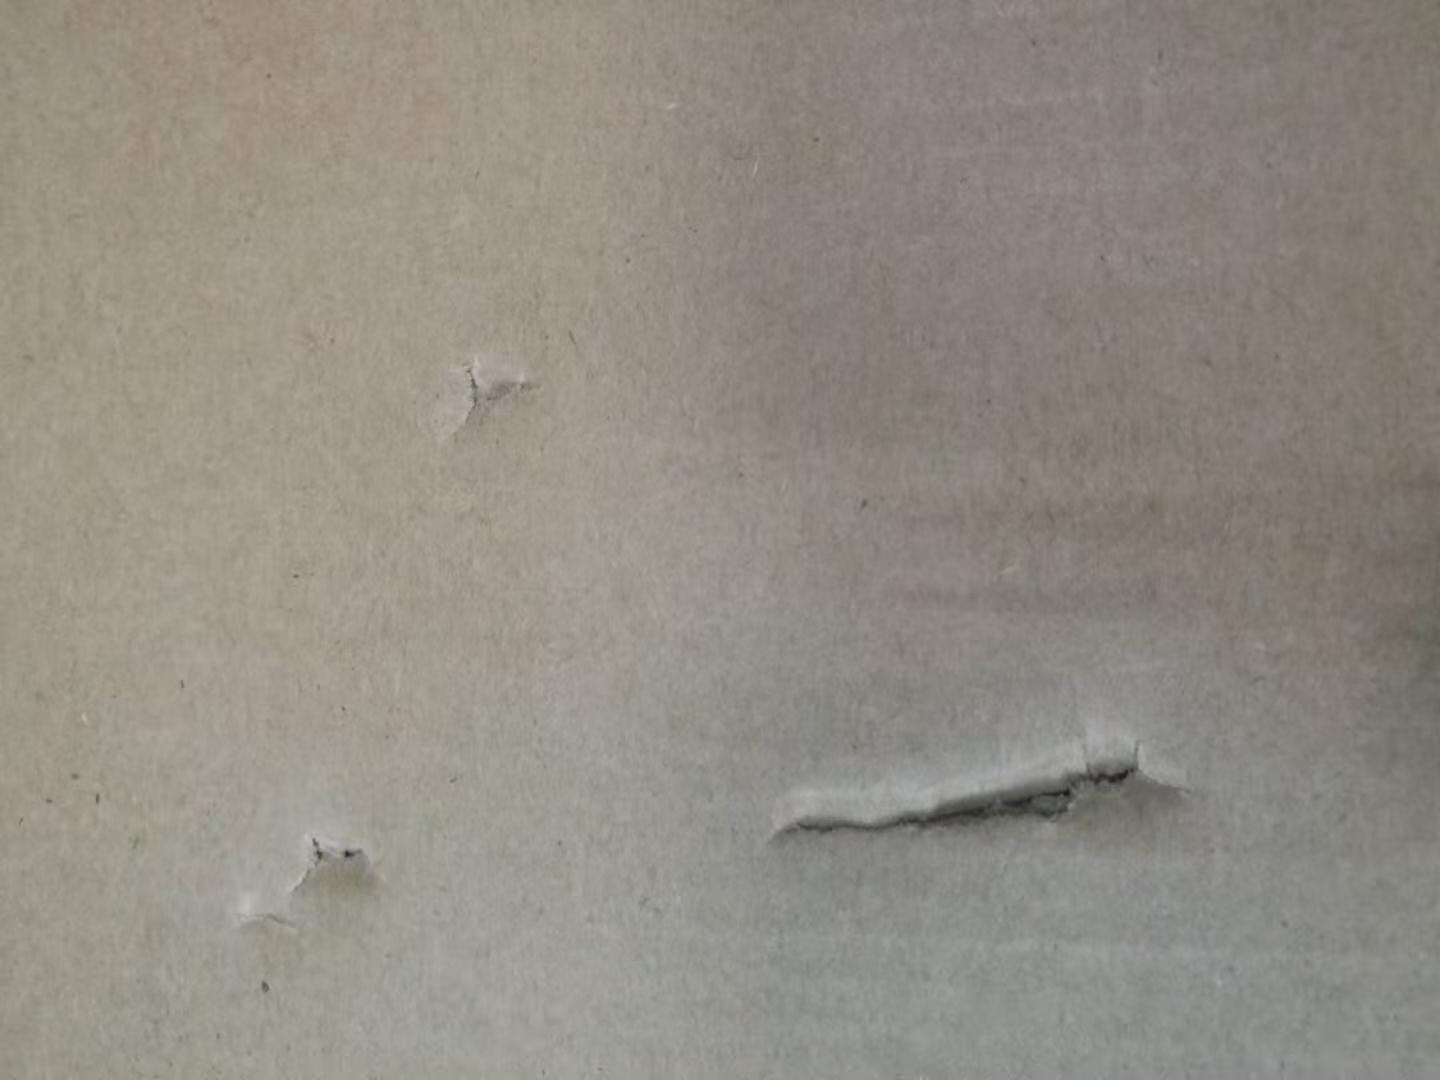defect: (728, 670, 1222, 893), (205, 798, 412, 965), (397, 312, 575, 465)
